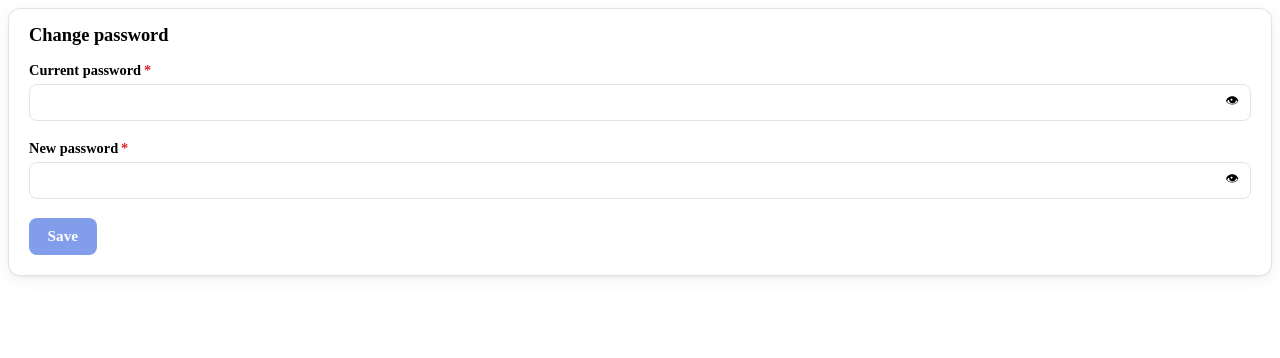
Scenario: Account settings › changes the password
In the password field labelled "Current password*": {"x": 640, "y": 103} left=29, top=84, right=1251, bottom=121, type "old"
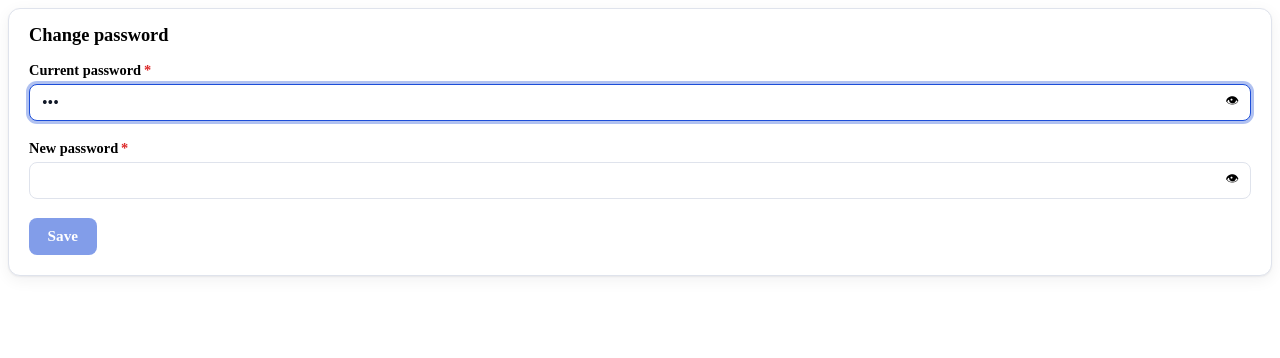
In the password field labelled "New password*": {"x": 640, "y": 180} left=29, top=162, right=1251, bottom=199, type "Brand-new-1"
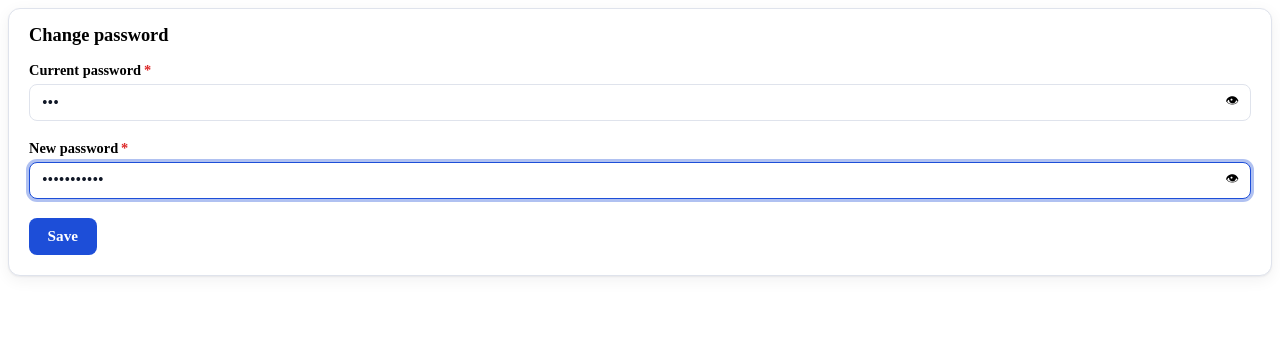
Click the button "Save": {"x": 63, "y": 236} left=29, top=218, right=97, bottom=255
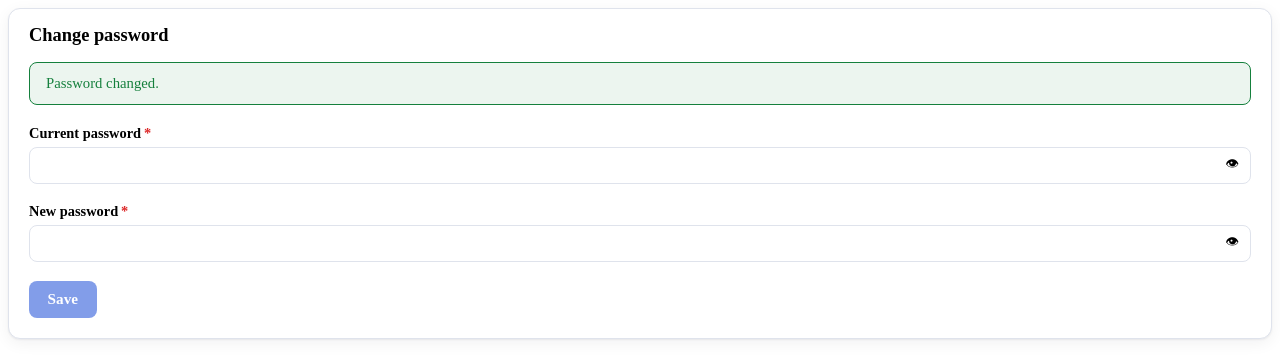
Expected: the text "Password changed." is shown, left=46, top=75, right=159, bottom=91
